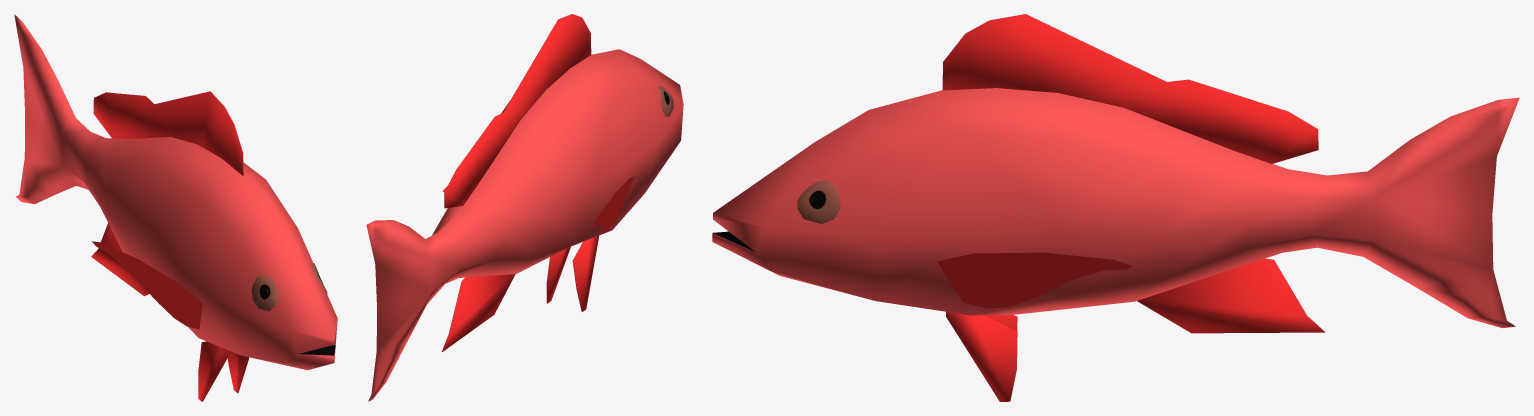
Rendered from redfish.gltf.
The picture shows the model from 3 angles, left to right: view 1: azimuth 30°, elevation 25°; view 2: azimuth 150°, elevation 25°; view 3: azimuth 270°, elevation 25°; orthographic projection. The views are drawn at different scales.
Parts seen in each view (by area): view 1: Cube; view 2: Cube; view 3: Cube.
Boxes of the visible parts, box(x1,y1,x2,y2) form: Cube: box(14, 14, 337, 401); Cube: box(366, 14, 683, 401); Cube: box(712, 14, 1519, 401).
Size of the model in its own units: 1.32 by 2.48 by 4.82.
